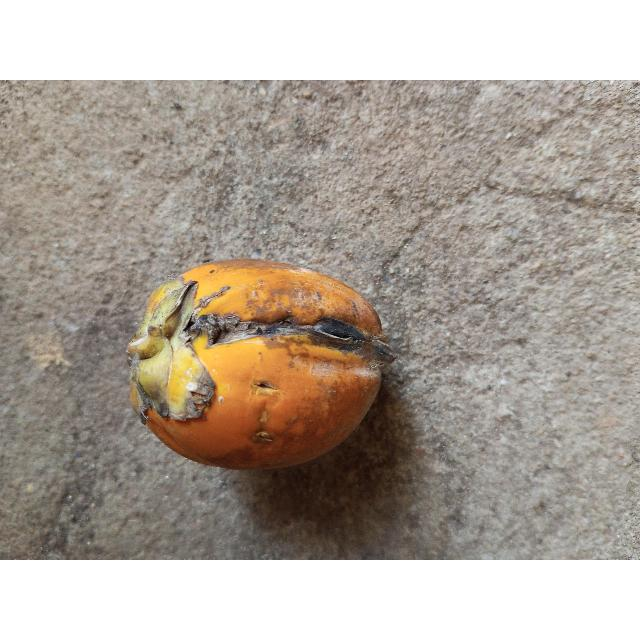damaged: (127, 259, 389, 472)
